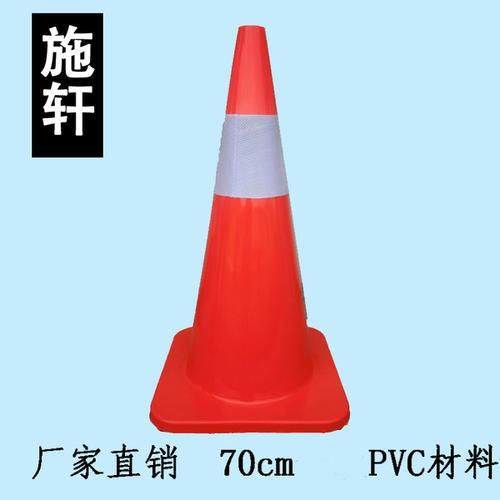cone_barrel: (166, 35, 338, 426)
